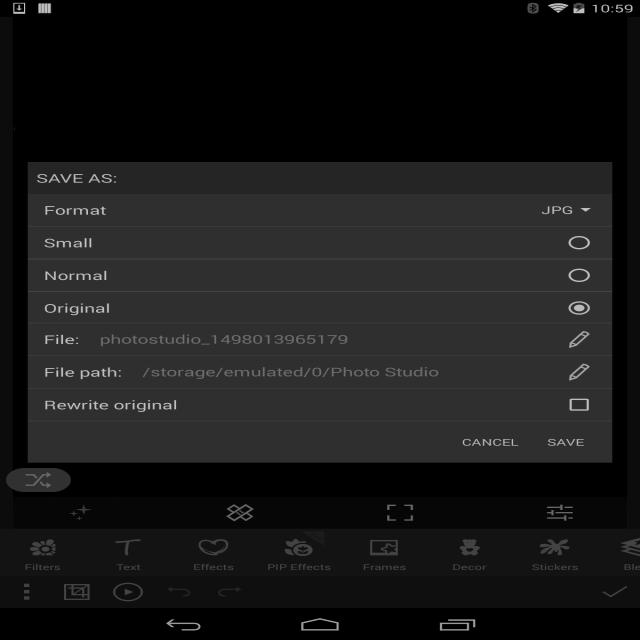Button: (449, 424, 531, 460), (531, 424, 600, 460)
CheckBox: (562, 394, 612, 415)
CheckedTextView: (28, 226, 612, 258), (28, 260, 612, 292), (28, 292, 612, 324)
EditText: (96, 324, 554, 354), (138, 357, 554, 387)
ImageView: (554, 324, 604, 356), (554, 356, 604, 388)
Spinner: (538, 201, 596, 219)
TextView: (28, 162, 612, 194), (28, 388, 178, 421), (28, 356, 138, 388), (28, 194, 122, 226), (28, 324, 95, 356), (538, 201, 579, 219)
